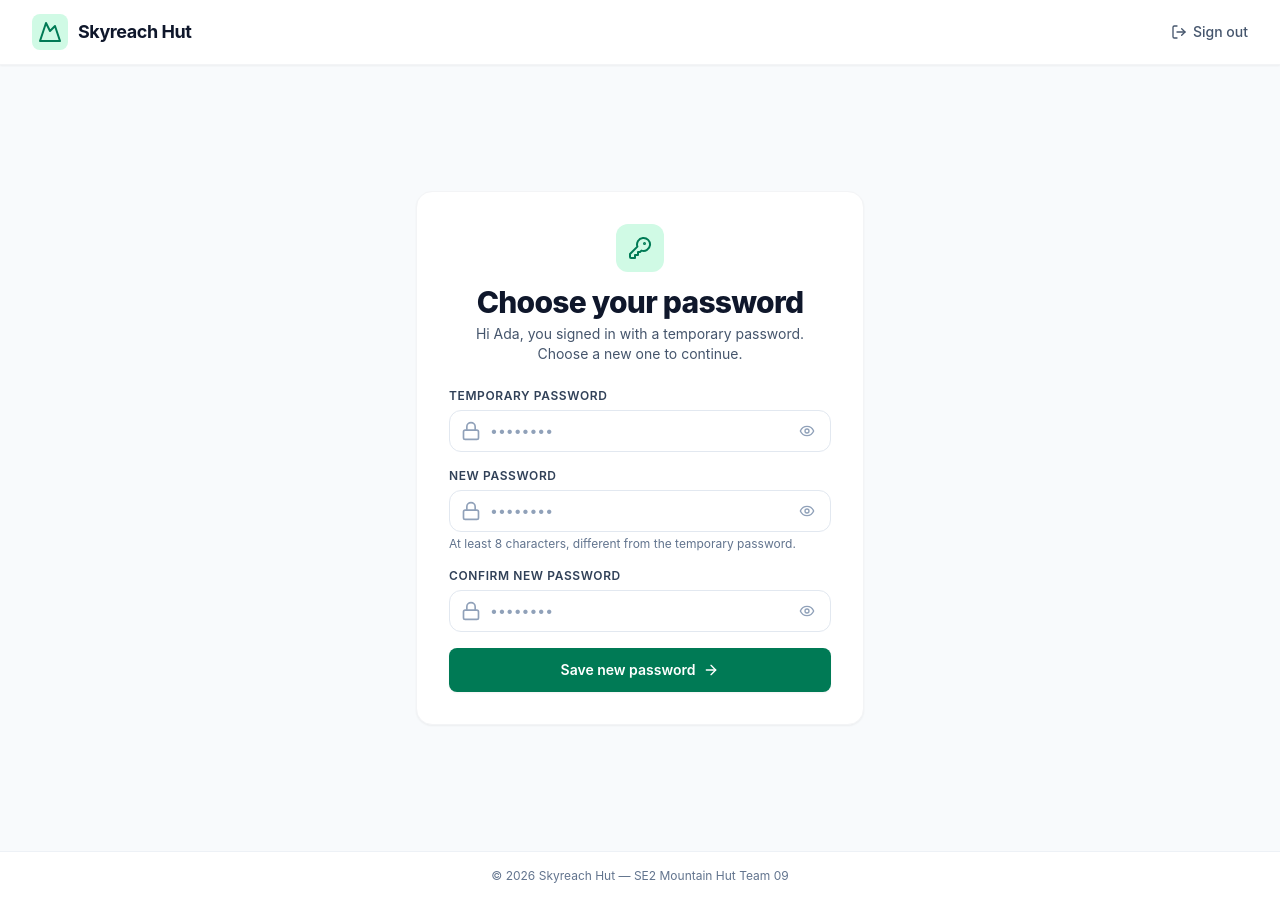
it: ChangePasswordPage › rejects invalid new password short and confirmation short
Type "Temporary123!" into the password field labelled "Temporary password" at {"x": 640, "y": 431}, box [449,410,831,452]
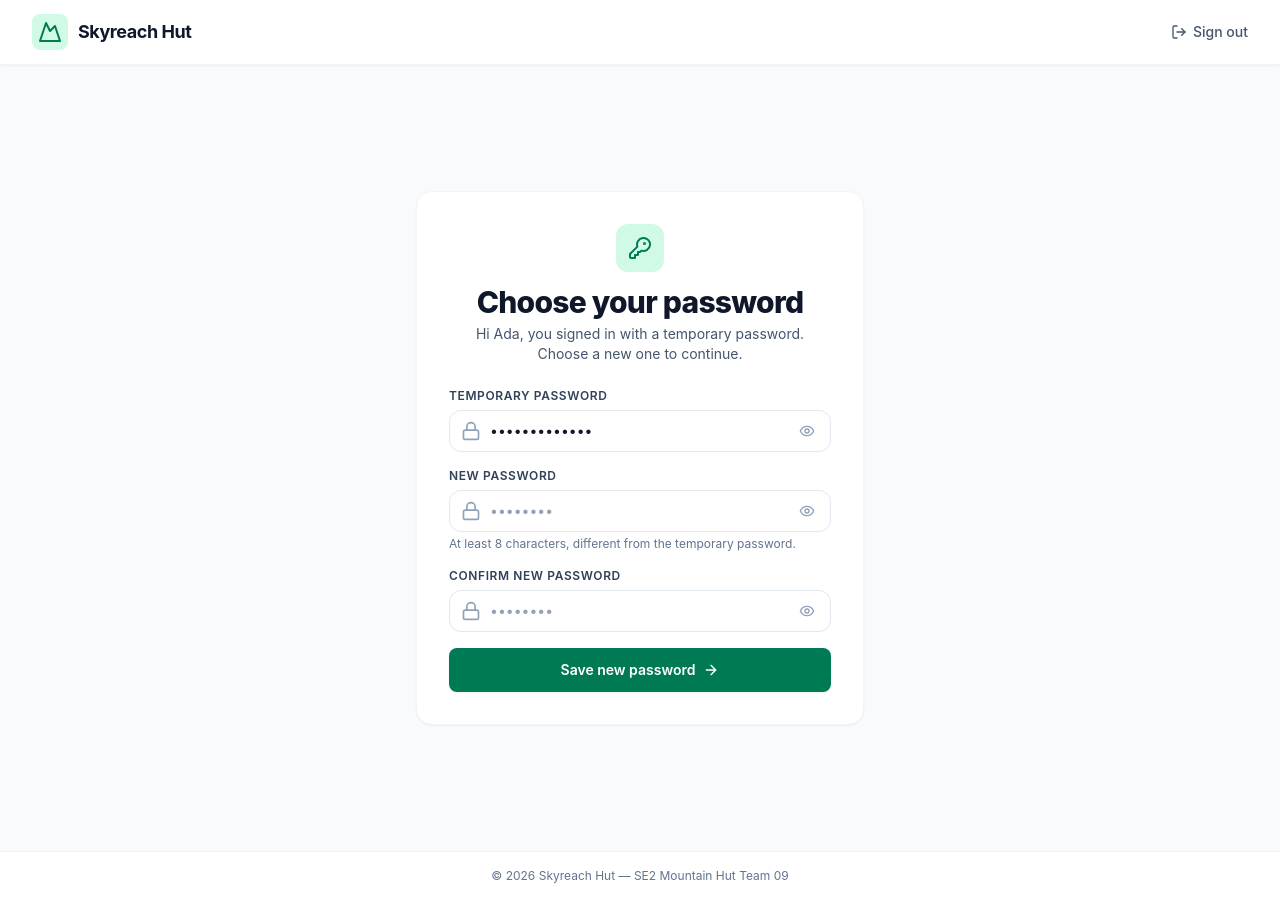
Type "short" into the password field labelled "New password" at {"x": 640, "y": 511}, box [449,490,831,532]
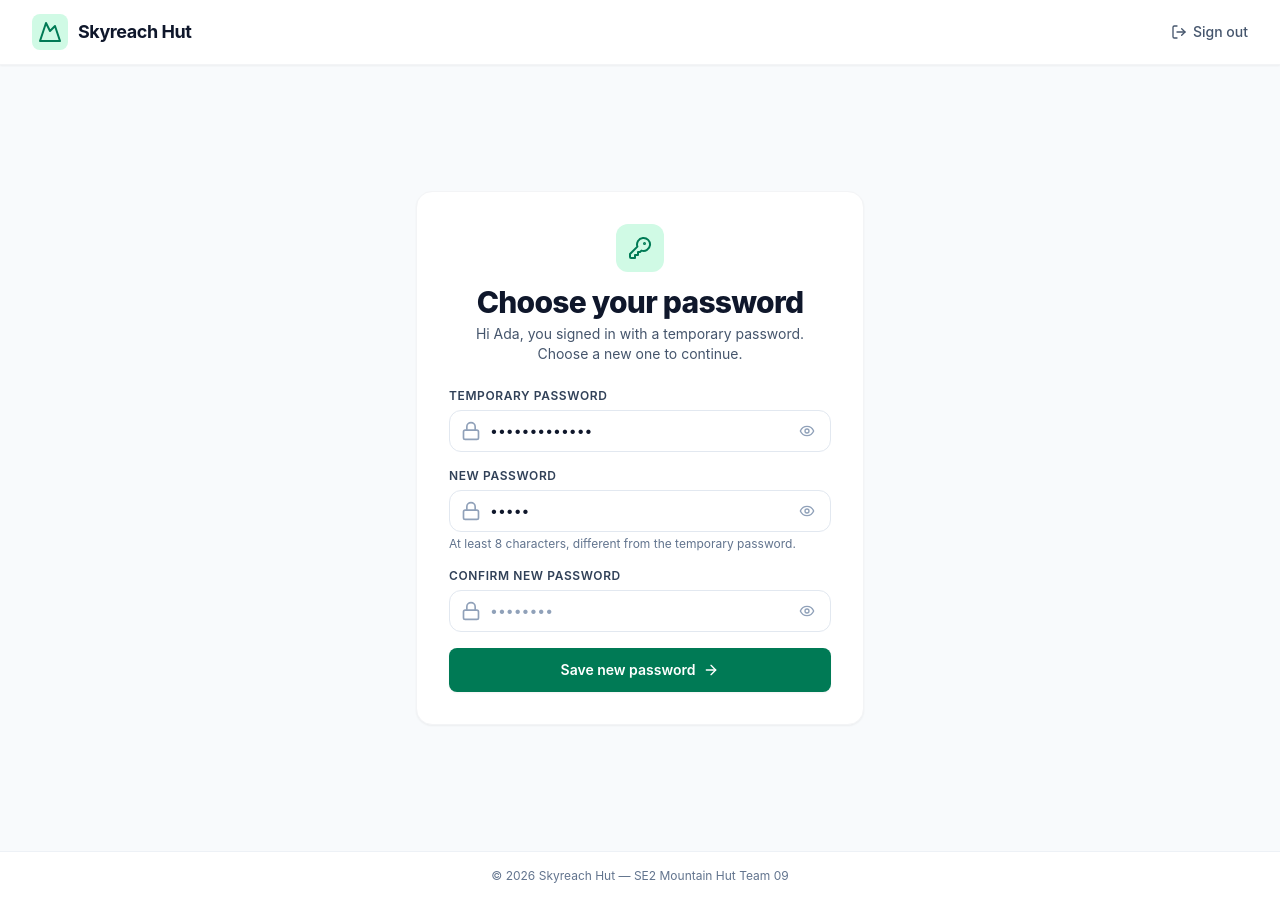
Type "short" into the password field labelled "Confirm new password" at {"x": 640, "y": 611}, box [449,590,831,632]
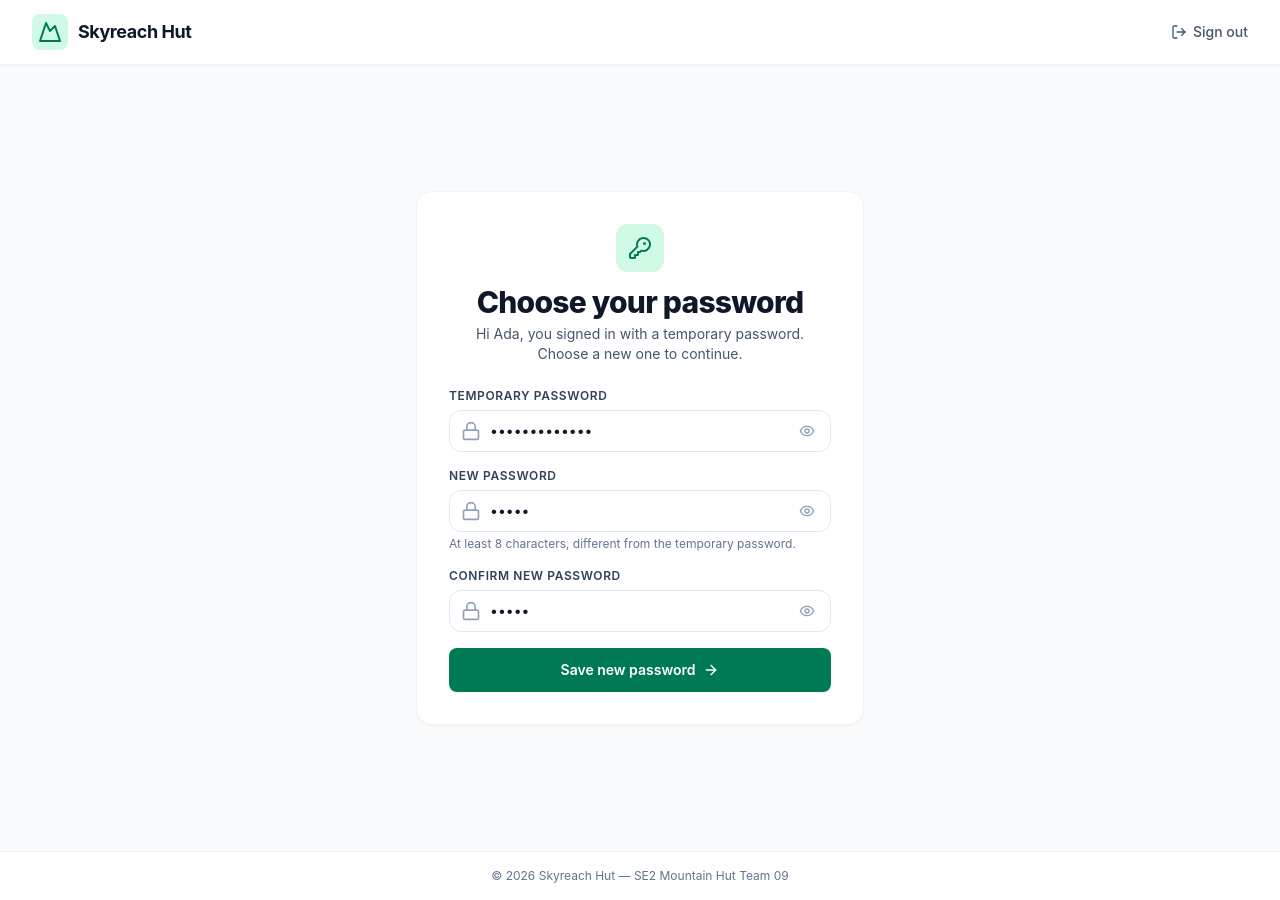
Click the button "Save new password" at {"x": 640, "y": 670}, box [449,648,831,692]
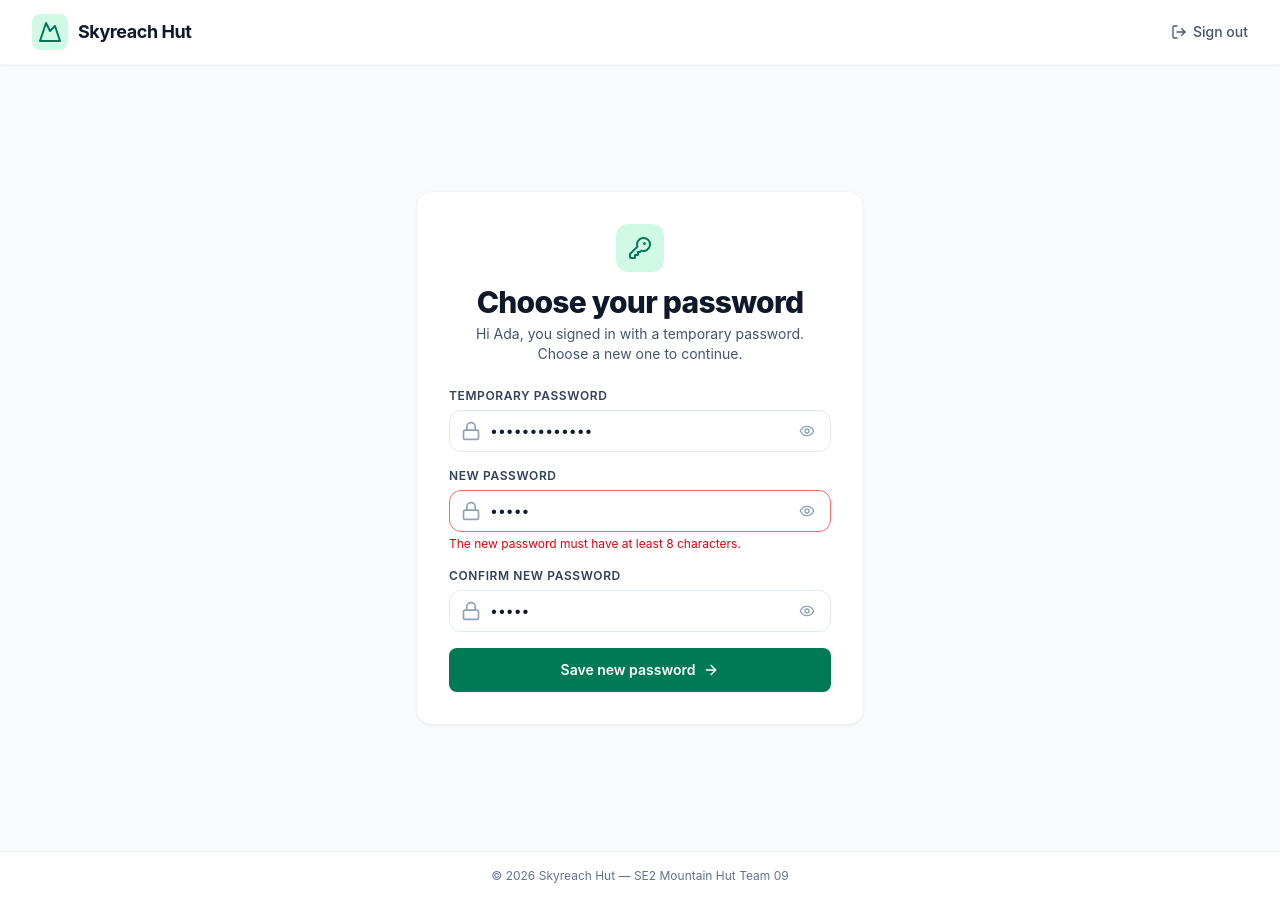
expect the text "The new password must have at least 8 characters." is shown: met, box [449,536,741,551]
